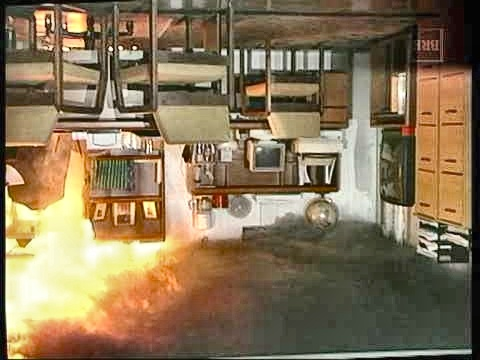fire: (0, 167, 164, 355)
